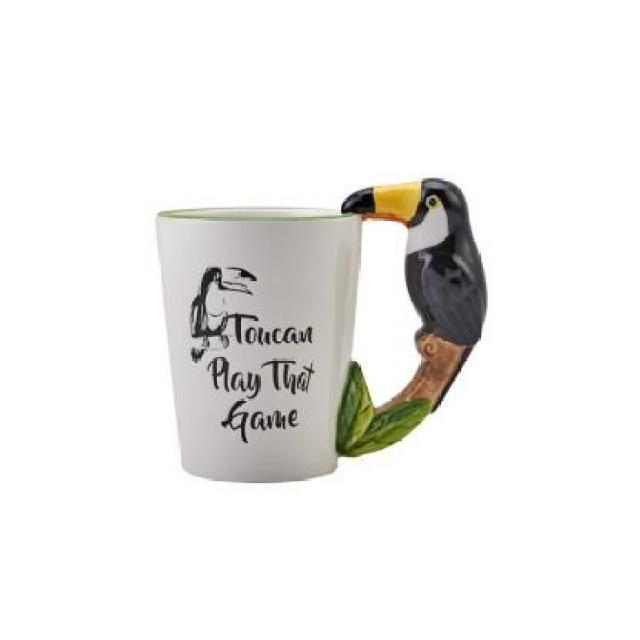taza: (155, 178, 488, 482)
